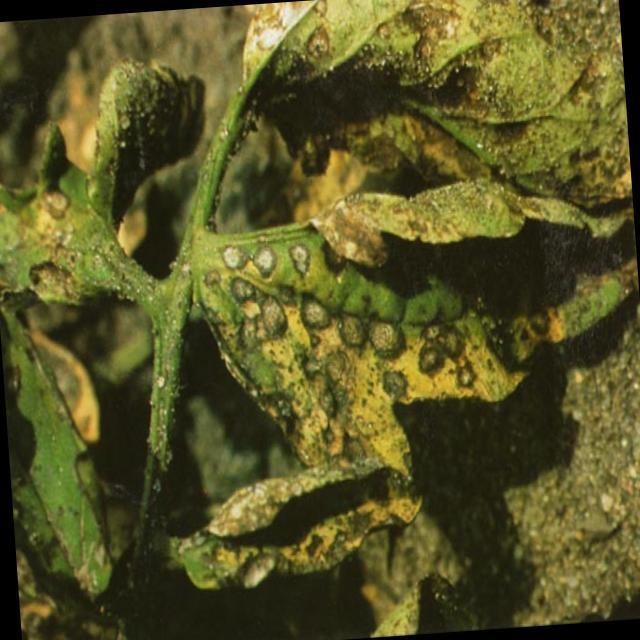Septoria: (220, 228, 457, 388)
